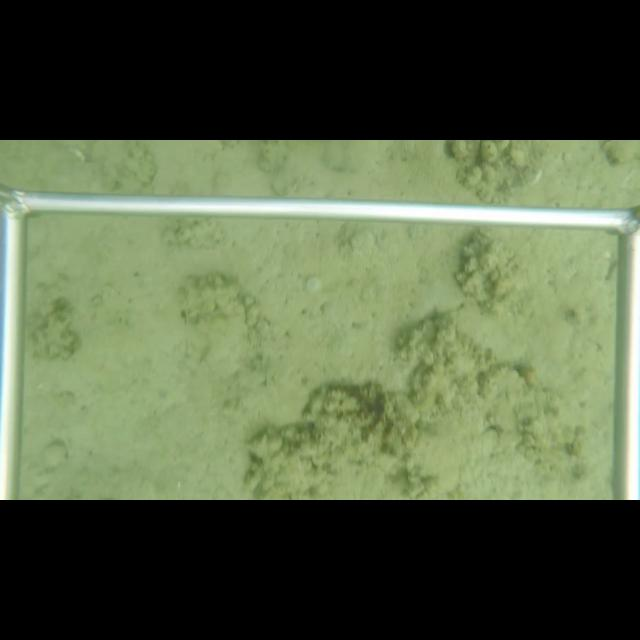Oyster-Closed: (182, 273, 252, 379)
